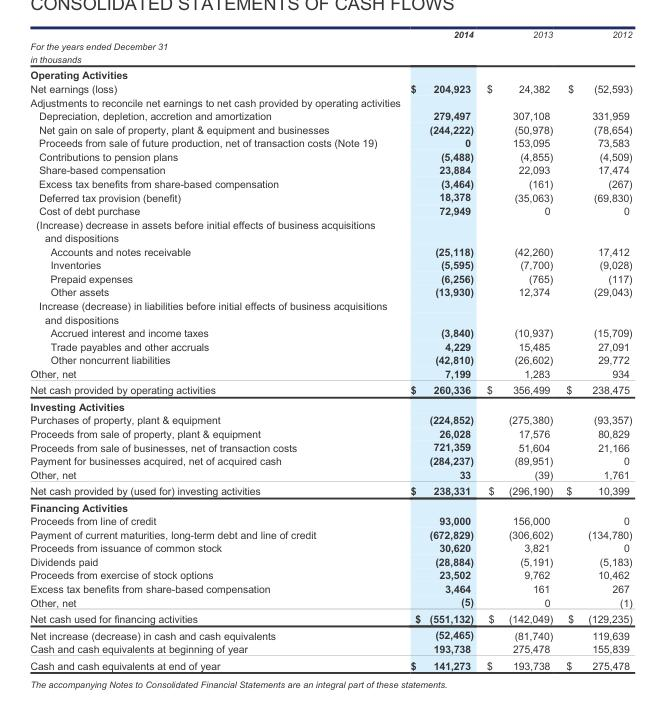table: (29, 28, 631, 670)
table column: (29, 28, 393, 670), (393, 28, 479, 670), (479, 28, 558, 670), (558, 28, 631, 670)
table column header: (29, 28, 631, 39)
table projected row header: (29, 66, 631, 81), (29, 498, 631, 513), (29, 52, 631, 66), (29, 230, 631, 244), (29, 298, 631, 312), (29, 398, 631, 412), (29, 39, 631, 52), (29, 95, 631, 108), (29, 217, 631, 230), (29, 312, 631, 325)
table row: (29, 381, 631, 398), (29, 482, 631, 498), (29, 610, 631, 626), (29, 66, 631, 81), (29, 366, 631, 381), (29, 467, 631, 482), (29, 498, 631, 513), (29, 595, 631, 610), (29, 626, 631, 641), (29, 641, 631, 656), (29, 52, 631, 66), (29, 81, 631, 95), (29, 108, 631, 122), (29, 135, 631, 149), (29, 162, 631, 176), (29, 176, 631, 190), (29, 203, 631, 217), (29, 230, 631, 244), (29, 257, 631, 271), (29, 271, 631, 285), (29, 298, 631, 312), (29, 325, 631, 339), (29, 352, 631, 366), (29, 398, 631, 412), (29, 412, 631, 426), (29, 426, 631, 440), (29, 453, 631, 467), (29, 513, 631, 527), (29, 540, 631, 554), (29, 554, 631, 568), (29, 581, 631, 595), (29, 656, 631, 670), (29, 39, 631, 52), (29, 95, 631, 108), (29, 122, 631, 135), (29, 149, 631, 162), (29, 190, 631, 203), (29, 217, 631, 230), (29, 244, 631, 257), (29, 285, 631, 298), (29, 312, 631, 325), (29, 339, 631, 352), (29, 440, 631, 453), (29, 527, 631, 540), (29, 568, 631, 581), (29, 28, 631, 39)
